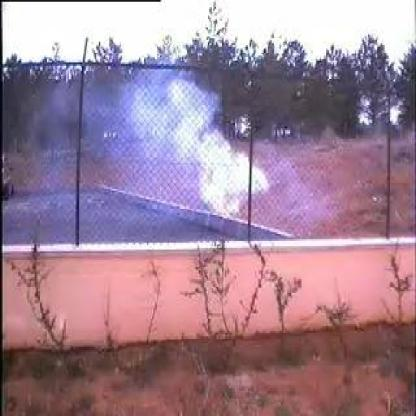-: (81, 69, 269, 246)
